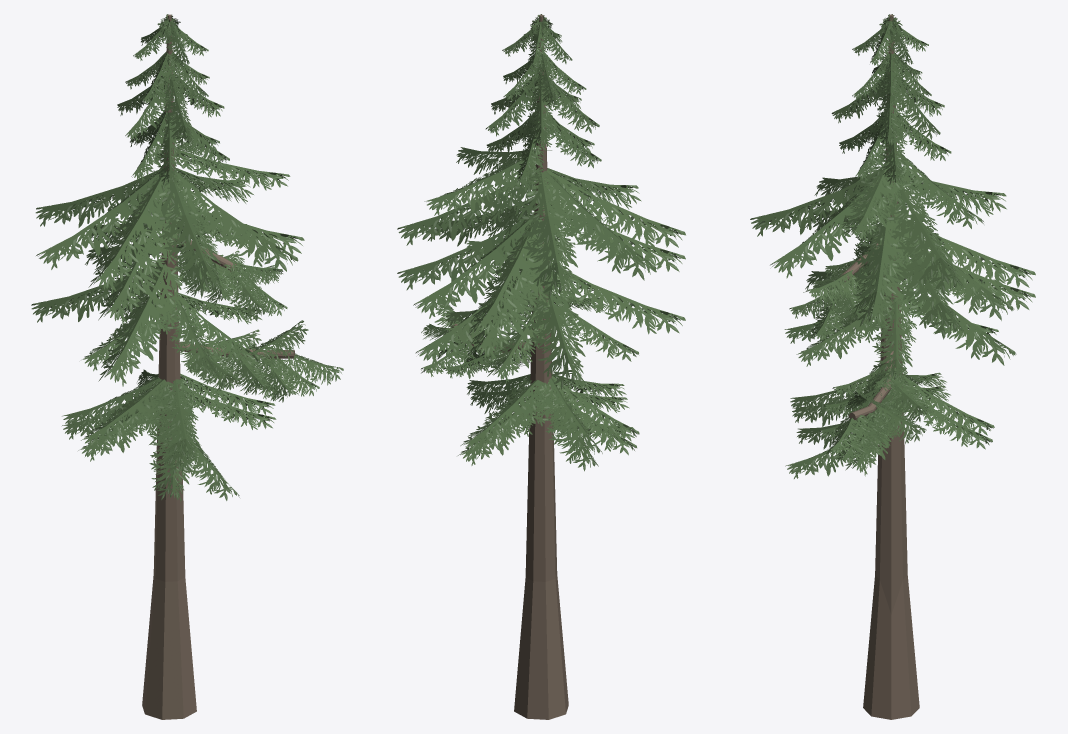
The model's file is TallPineTree3.fbx.
3 views of the same model, side by side, from view 1: azimuth 30°, elevation 25°; view 2: azimuth 150°, elevation 25°; view 3: azimuth 270°, elevation 25° (orthographic).
Visible parts, largest first — view 1: Pineleaves.087, Cylinder.001, Plane; view 2: Pineleaves.087, Cylinder.001; view 3: Pineleaves.087, Cylinder.001, Plane.
Boxes of the visible parts, x1=… form: Pineleaves.087: x1=31, y1=14, x2=343, y2=502; Cylinder.001: x1=142, y1=14, x2=196, y2=719; Plane: x1=176, y1=234, x2=295, y2=358; Pineleaves.087: x1=397, y1=14, x2=685, y2=471; Cylinder.001: x1=514, y1=14, x2=568, y2=719; Pineleaves.087: x1=750, y1=14, x2=1035, y2=478; Cylinder.001: x1=863, y1=14, x2=919, y2=719; Plane: x1=841, y1=243, x2=893, y2=419.
Bounding box in the file's own units: 490 × 1116 × 469.
